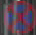No Stopping: (2, 0, 35, 31)
